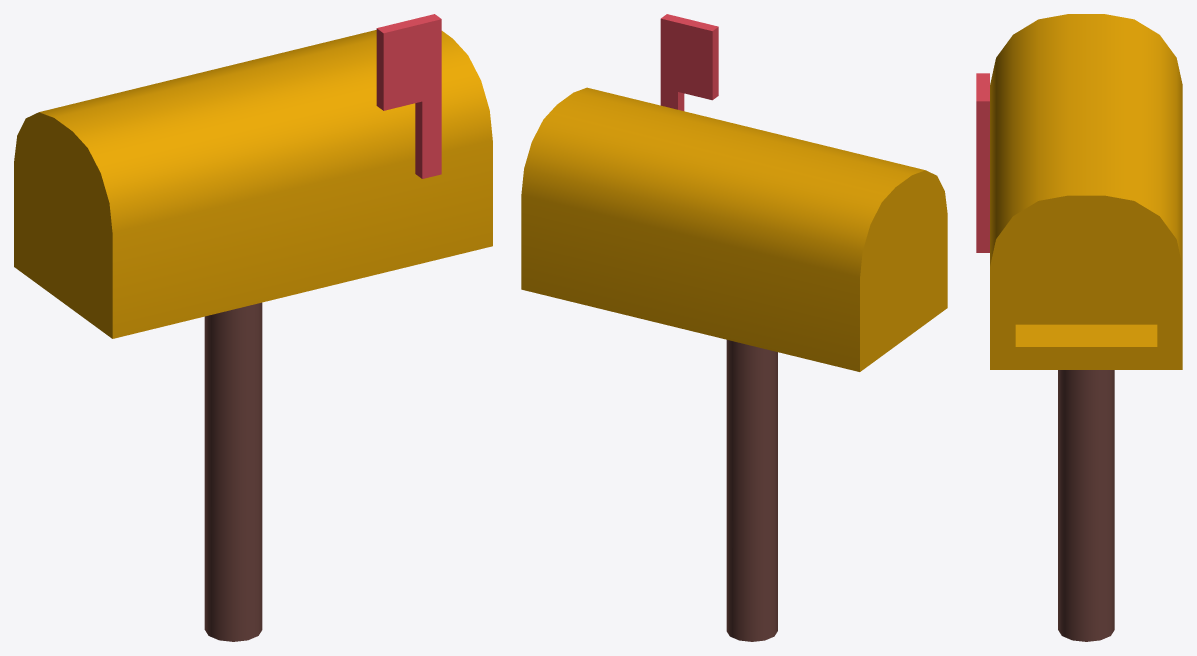
Rendered from guestBook.glb.
3 renders of one model, left to right at view 1: azimuth 30°, elevation 25°; view 2: azimuth 150°, elevation 25°; view 3: azimuth 270°, elevation 25°, orthographic. The views are drawn at different scales.
Parts seen in each view (by area): view 1: Mailbox; view 2: Mailbox; view 3: Mailbox.
Part boxes in pixels (left/top/right/bottom): Mailbox: left=14, top=14, right=492, bottom=641; Mailbox: left=521, top=14, right=947, bottom=641; Mailbox: left=976, top=14, right=1182, bottom=641.
Size of the model in its own units: 0.9054 by 1.4 by 0.4349.
